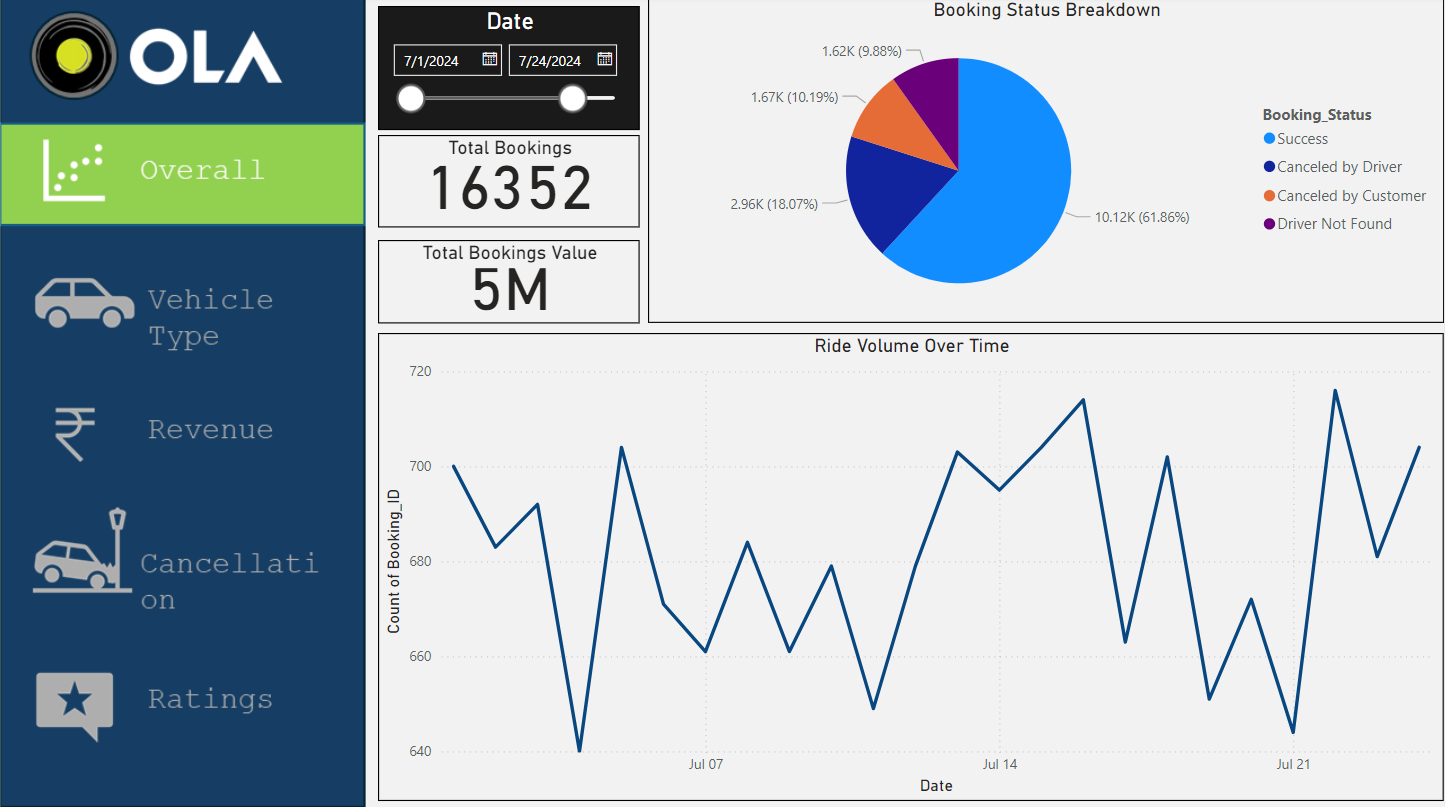

Layout of this report page (visuals, bound fields, positions):
{"tool":"powerbi","page":{"name":"OVERALL","canvas":[1280,720],"ordinal":1},"visuals":[{"type":"actionButton","box":[0,231.4,325.4,90.4],"z":0},{"type":"actionButton","box":[0,336.1,325.4,91.3],"z":1000},{"type":"actionButton","box":[0,442.5,325.4,112.6],"z":2000},{"type":"actionButton","box":[0,576.4,325.4,92.2],"z":3000},{"type":"actionButton","box":[0,110.8,325.4,93.1],"z":4000},{"type":"lineChart","title":"Ride Volume Over Time","fields":{"Y":["CountNonNull(Bookings.Booking_ID)"],"Category":["Bookings.Date"]},"box":[335.2,297.9,945.2,415],"z":5000},{"type":"pieChart","title":"Booking Status Breakdown","fields":{"Category":["Bookings.Booking_Status"],"Y":["CountNonNull(Bookings.Booking_Status)"]},"box":[574.6,0,705.8,289.1],"z":6000},{"type":"slicer","title":"Date","fields":{"Values":["Bookings.Date"]},"box":[335.2,8,232.3,110],"z":7000},{"type":"card","title":"Total Bookings","fields":{"Values":["Count(Bookings.Booking_ID)"]},"box":[335.2,122.4,232.3,81.6],"z":8000},{"type":"card","title":"Total Bookings Value","fields":{"Values":["Sum(Bookings.Booking_Value)"]},"box":[335.2,215.5,232.3,73.6],"z":9000}]}

Visuals, with their boxes in screenshot pixels (x1, y1, x2, y2), scaled from the page's 1280x720 canvas onto the 1445x807 screenshot:
actionButton: rect(0, 259, 367, 361)
actionButton: rect(0, 377, 367, 479)
actionButton: rect(0, 496, 367, 622)
actionButton: rect(0, 646, 367, 749)
actionButton: rect(0, 124, 367, 229)
"Ride Volume Over Time" lineChart: rect(378, 334, 1444, 799)
"Booking Status Breakdown" pieChart: rect(649, 0, 1444, 324)
"Date" slicer: rect(378, 9, 641, 132)
"Total Bookings" card: rect(378, 137, 641, 229)
"Total Bookings Value" card: rect(378, 242, 641, 324)
